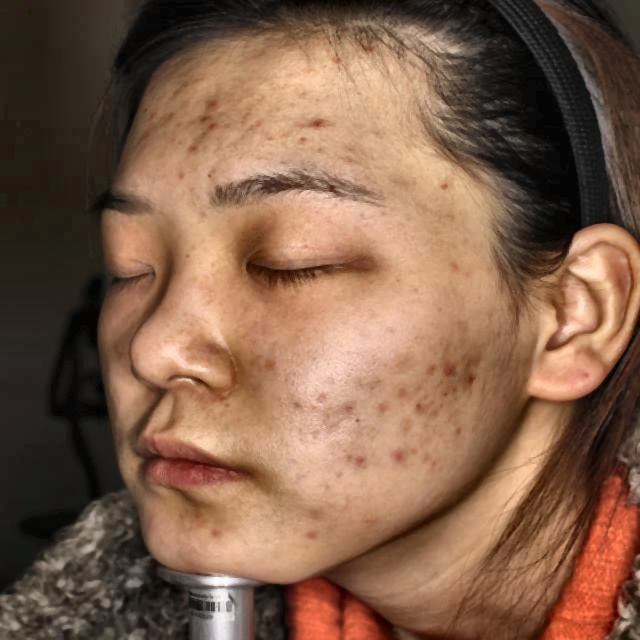pustule: (410, 350, 456, 383), (396, 390, 431, 420), (385, 437, 416, 469), (421, 435, 443, 474), (191, 113, 226, 137), (342, 446, 372, 474), (189, 93, 229, 113), (366, 393, 396, 418), (326, 394, 356, 417), (459, 366, 486, 391), (306, 502, 338, 522)
